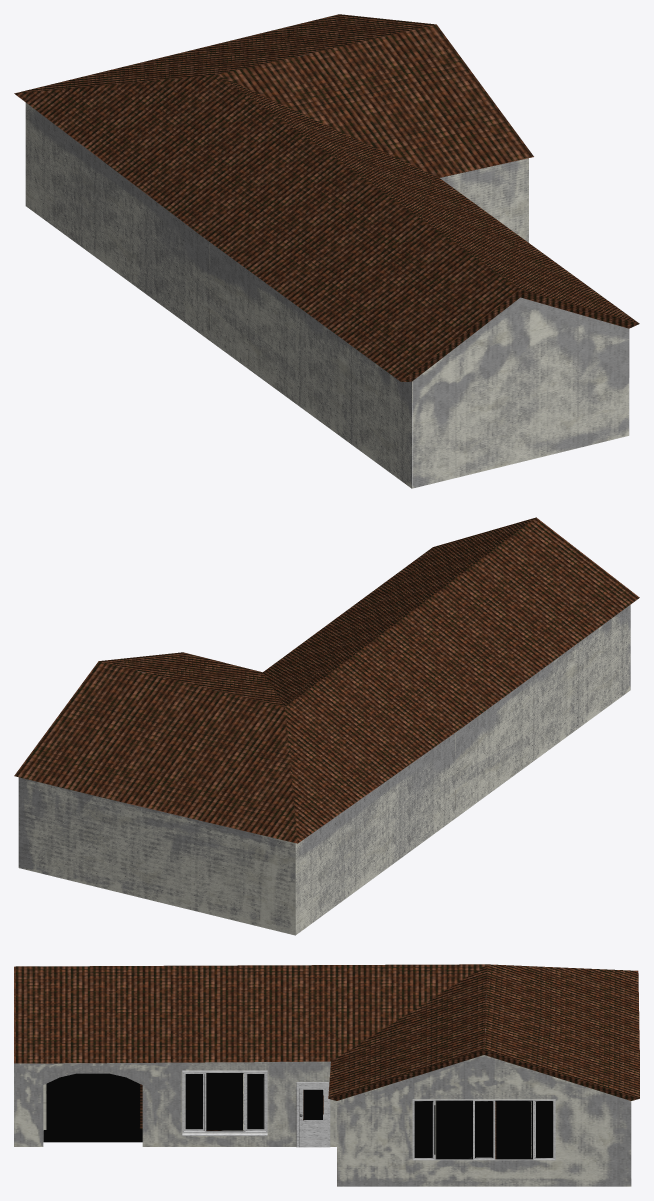
The model's file is House.fbx.
The picture shows the model from 3 angles, top to bottom: view 1: azimuth 30°, elevation 25°; view 2: azimuth 150°, elevation 25°; view 3: azimuth 270°, elevation 25°; orthographic projection. The views are drawn at different scales.
Visible parts, largest first — view 1: Cube.001; view 2: Cube.001; view 3: Cube.001.
Boxes of the visible parts, bbox=[...] form: Cube.001: bbox=[14, 14, 639, 488]; Cube.001: bbox=[14, 517, 639, 935]; Cube.001: bbox=[14, 964, 639, 1186].
Bounding box in the file's own units: 2230 × 1117 × 4582.
